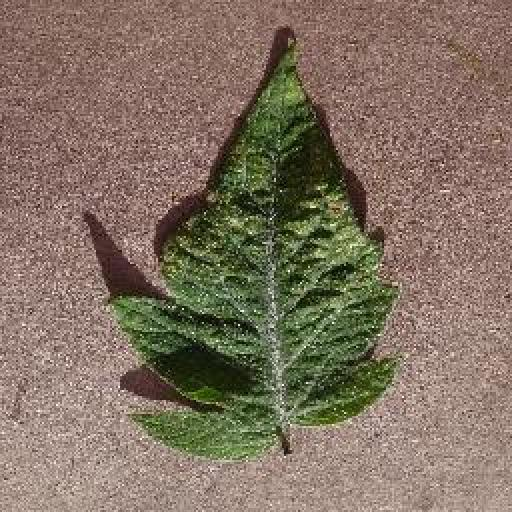disease_tomato: (106, 48, 394, 456)
